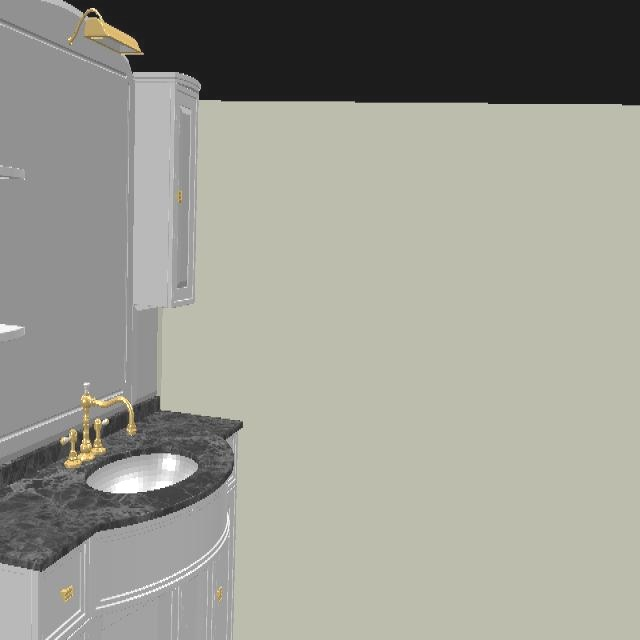cabinet: (0, 471, 238, 640)
washbasin: (81, 449, 200, 499)
